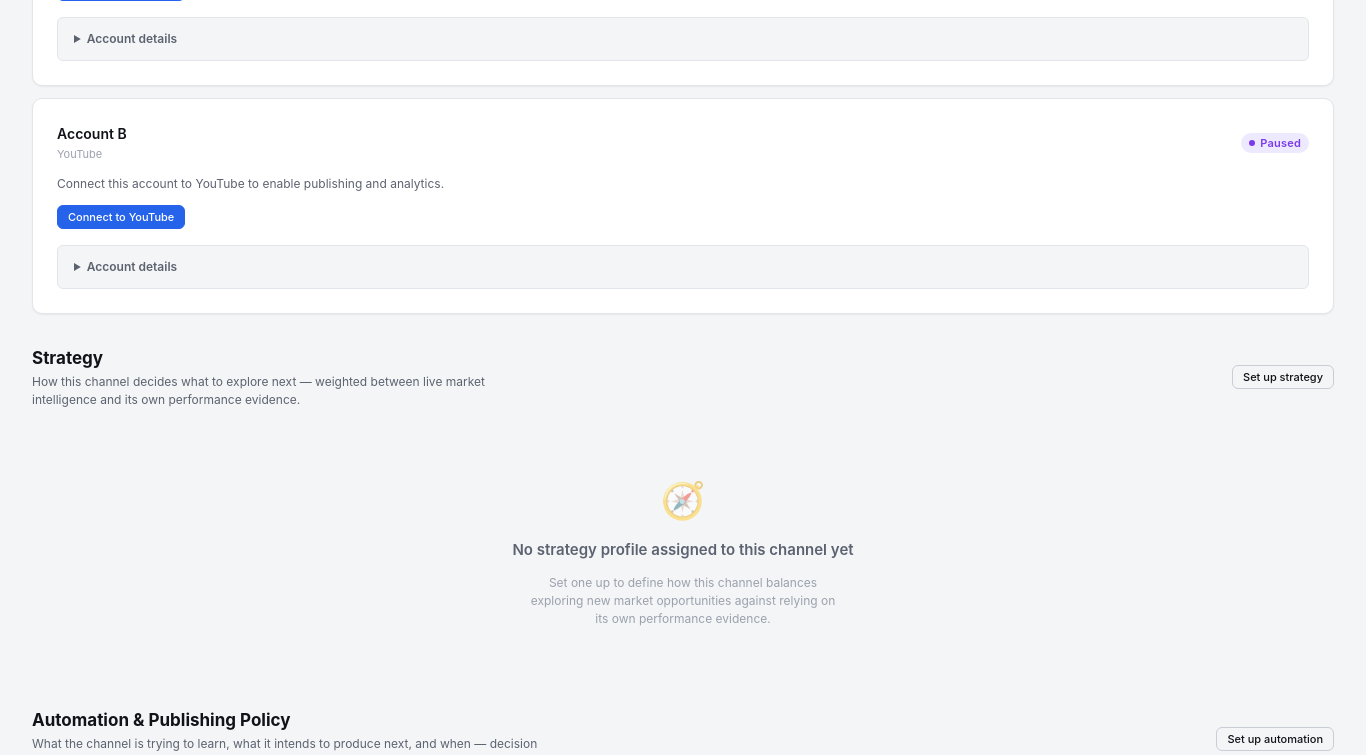
Scenario: Channels › strategy › editing › closes on cancel without saving
The width and height of the screenshot is (1366, 755).
(page scrolled)
Click the button "Set up strategy". click: x=1283, y=377
box: [1232,365,1334,389]
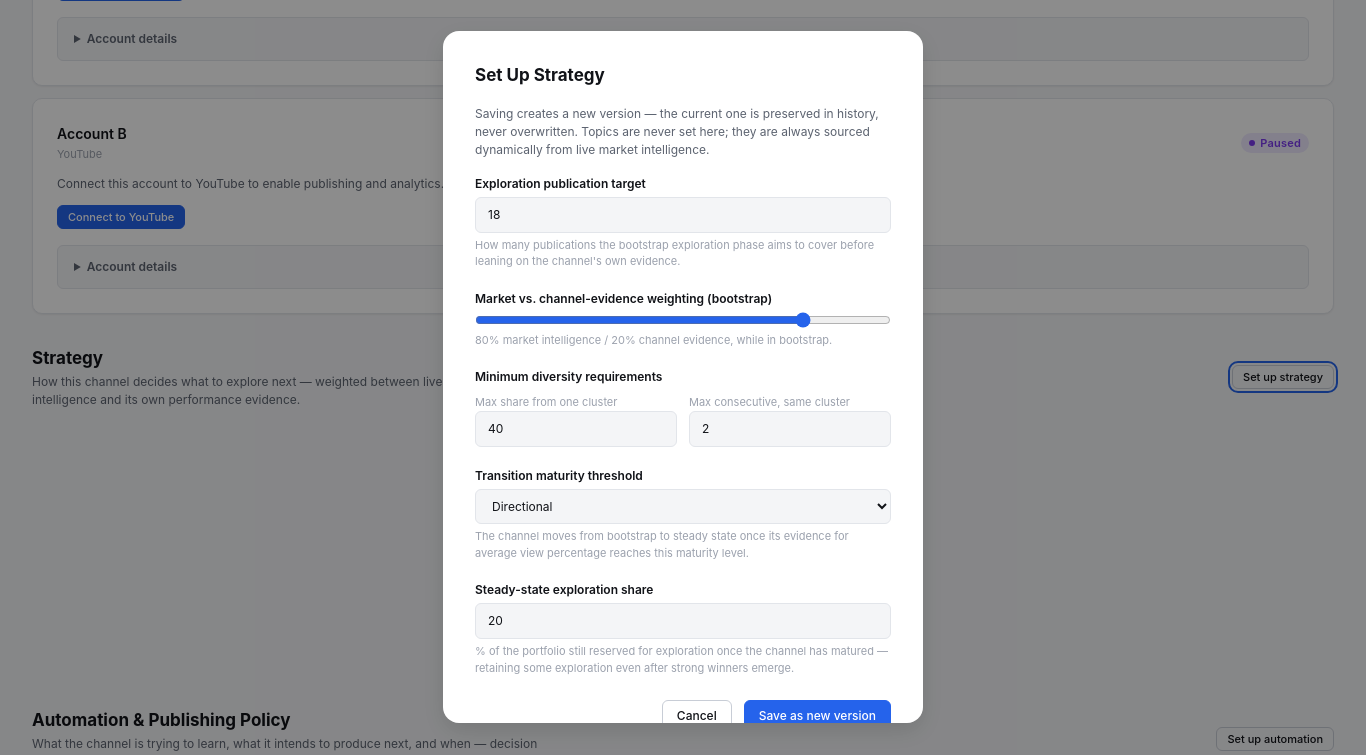
Click the button "Cancel". click: x=697, y=716
box: [662,700,732,731]
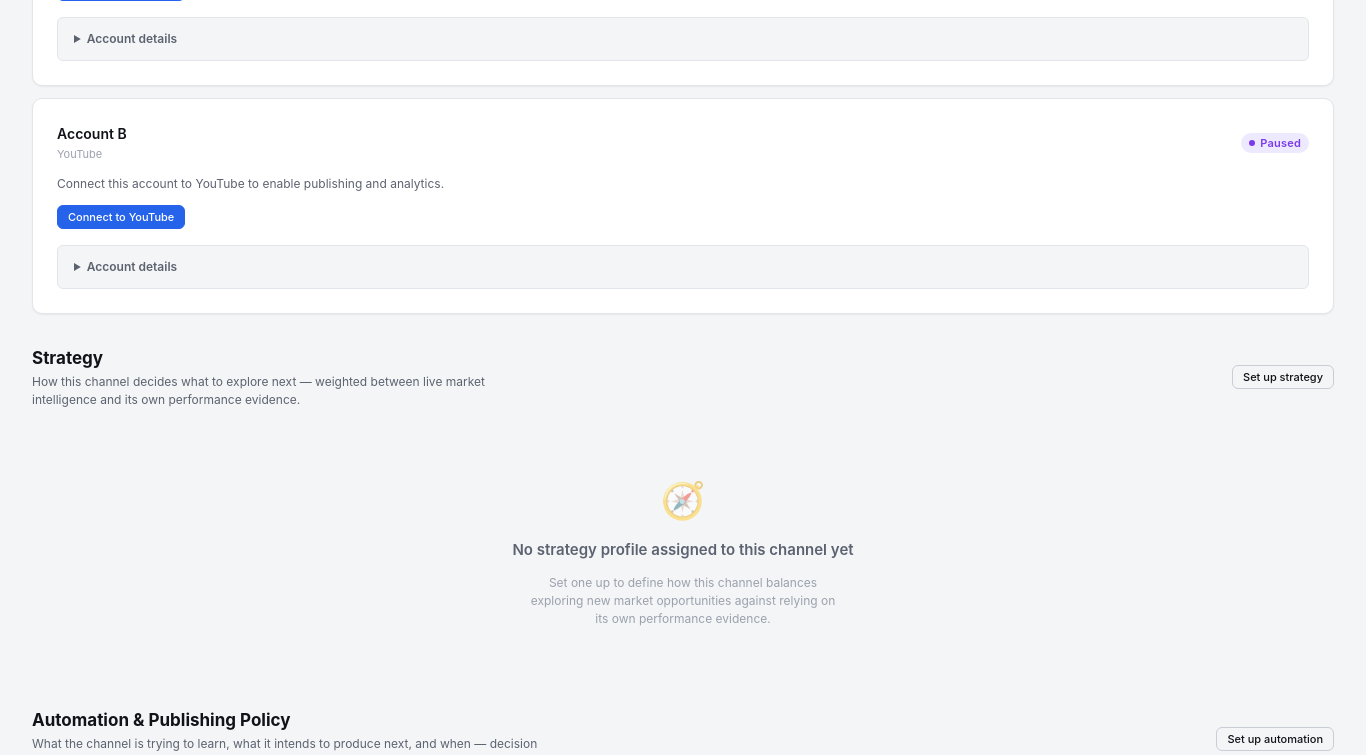
Expected: the dialog is gone
